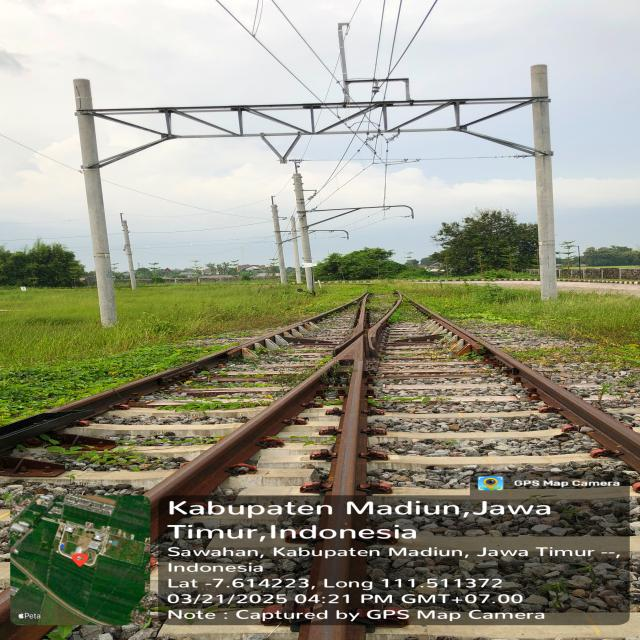rail-detection: (146, 304, 394, 640), (413, 301, 640, 472), (0, 333, 273, 445)
